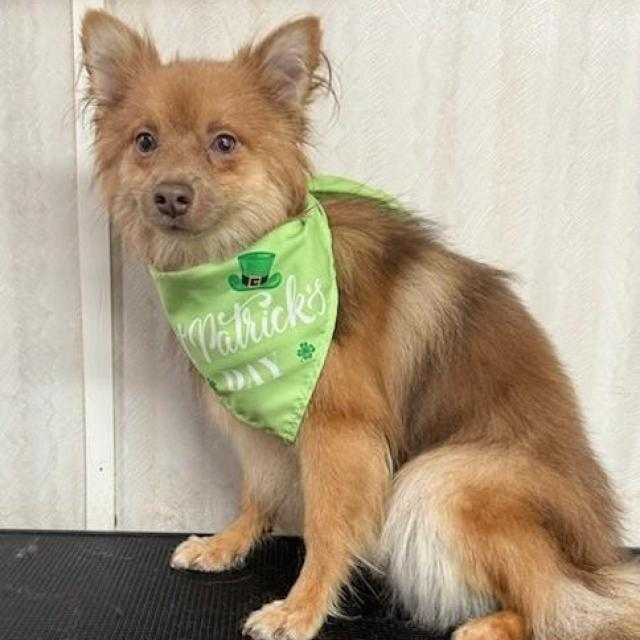pomeranian_dog: (55, 7, 351, 294)
